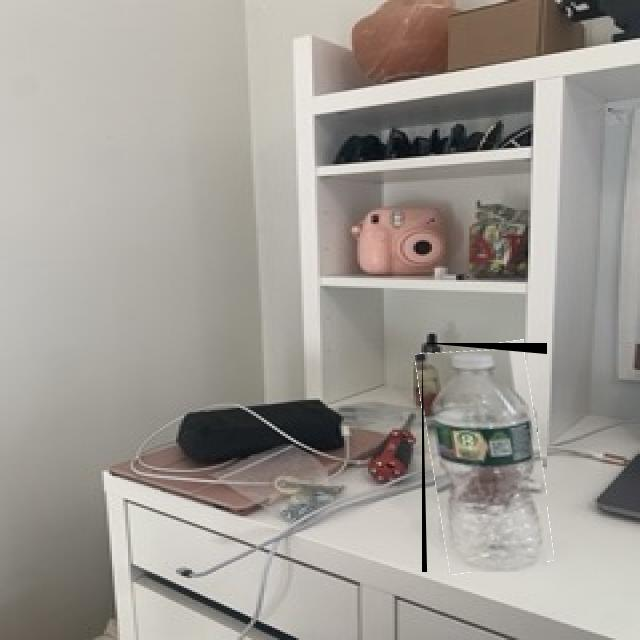water_bottle: (422, 343, 547, 572)
